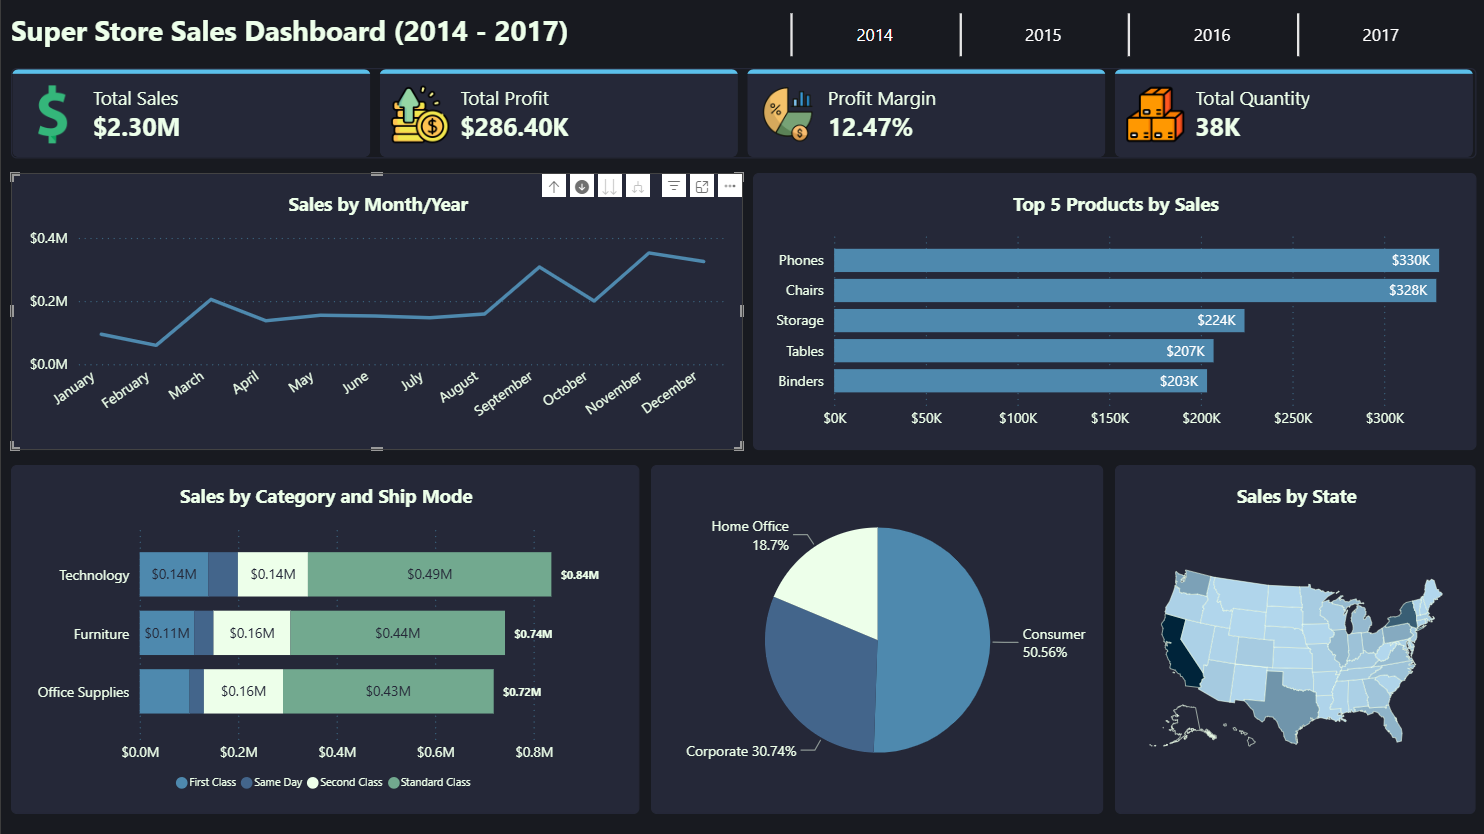

This screenshot's page, from the dashboard's own definition file:
{"tool":"powerbi","page":{"name":"Page 1","canvas":[1280,720],"ordinal":0},"visuals":[{"type":"cardVisual","fields":{"Data":["Sample - Superstore.Total Revenue","Sample - Superstore.Total Profit","Sample - Superstore.Profit Margin","Sample - Superstore.Total Quantity"]},"box":[8.6,58.7,1263.6,77.6],"z":0},{"type":"slicer","fields":{"Values":["Sample - Superstore.Order Date.Variation.Date Hierarchy.Year"]},"box":[659.8,9.5,620.2,40.5],"z":1000},{"type":"textbox","box":[8.6,9.5,632.2,40.5],"z":2000},{"type":"lineChart","title":"Sales by Month/Year","fields":{"Category":["Sample - Superstore.Order Date.Variation.Date Hierarchy.Year","Sample - Superstore.Order Date.Variation.Date Hierarchy.Month"],"Y":["Sum(Sample - Superstore.Sales)"]},"box":[8.6,149.2,631.4,238.9],"z":3000},{"type":"barChart","title":"Top 5 Products by Sales","fields":{"Category":["Sample - Superstore.Sub-Category"],"Y":["Sum(Sample - Superstore.Sales)"]},"box":[648.3,149.1,623.8,239.3],"z":4000},{"type":"shapeMap","title":"Sales by State","fields":{"Category":["Sample - Superstore.State"],"Value":["Sum(Sample - Superstore.Sales)"]},"box":[960.9,401.1,311.4,301],"z":5000},{"type":"pieChart","title":"Sales by Category","fields":{"Category":["Sample - Superstore.Category","Sample - Superstore.Segment"],"Y":["Sum(Sample - Superstore.Sales)"]},"box":[560.6,401.1,389.9,301],"z":6000},{"type":"barChart","title":"Sales by Category and Ship Mode","fields":{"Category":["Sample - Superstore.Category","Sample - Superstore.Ship Mode"],"Series":["Sample - Superstore.Ship Mode"],"Y":["Sum(Sample - Superstore.Sales)"]},"box":[8.6,401.1,541.7,301],"z":7000}]}

Visuals, with their boxes in screenshot pixels (x1, y1, x2, y2), scaled from the page's 1280x720 canvas onto the 1484x834 screenshot:
cardVisual - Sample - Superstore.Total Revenue x Sample - Superstore.Total Profit: crop(10, 68, 1475, 158)
slicer - Sample - Superstore.Order Date.Variation.Date Hierarchy.Year: crop(765, 11, 1483, 58)
textbox: crop(10, 11, 743, 58)
"Sales by Month/Year" lineChart: crop(10, 173, 742, 450)
"Top 5 Products by Sales" barChart: crop(752, 173, 1475, 450)
"Sales by State" shapeMap: crop(1114, 465, 1475, 813)
"Sales by Category" pieChart: crop(650, 465, 1102, 813)
"Sales by Category and Ship Mode" barChart: crop(10, 465, 638, 813)
